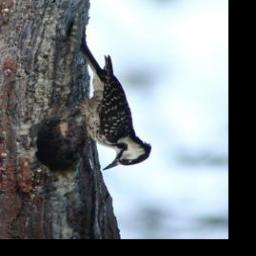Woodpecker: (50, 42, 154, 173)
